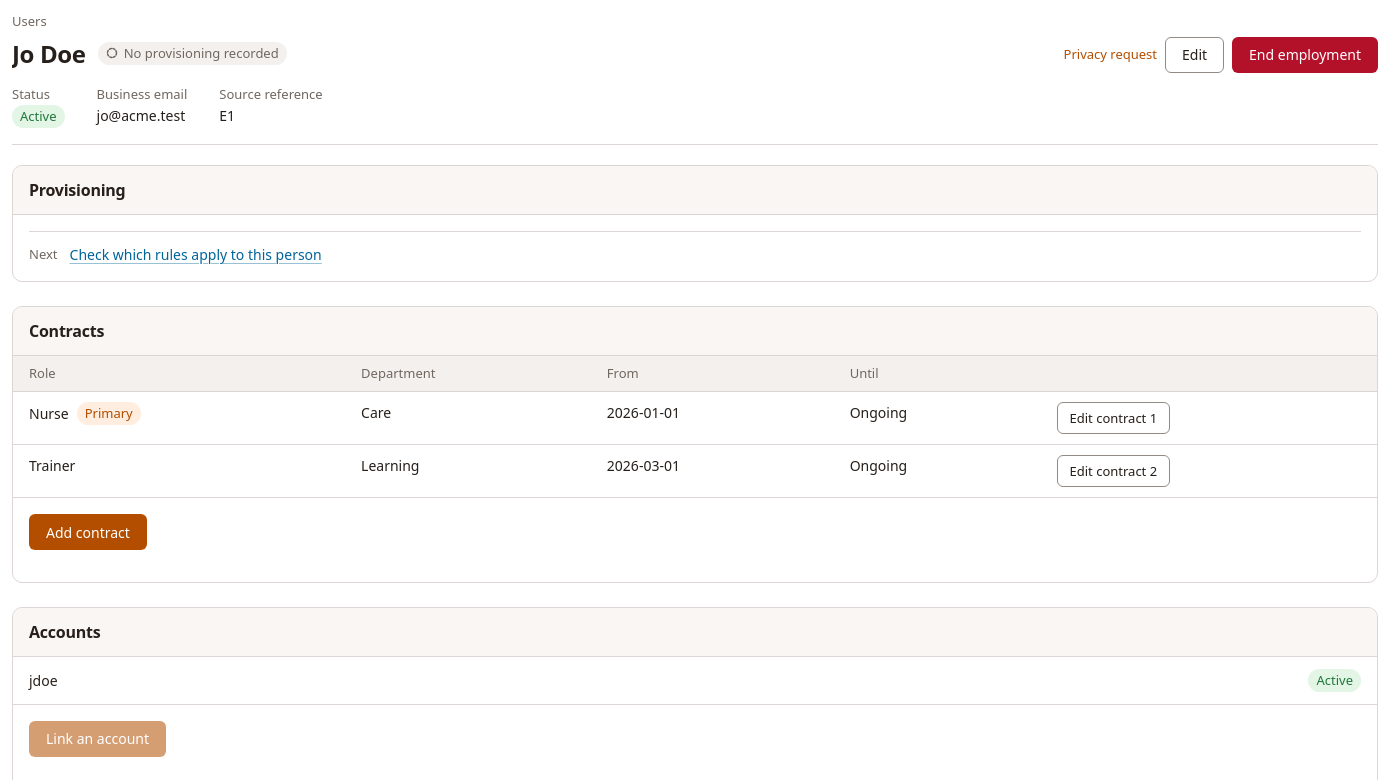
Test case: PersonDetailPage › previews linked sign-ins and target work before ending employment
What coordinates should you click on to do the following:
click the button "End employment"
I would click on:
 (1305, 55)
Its box is [1232,37,1378,73].
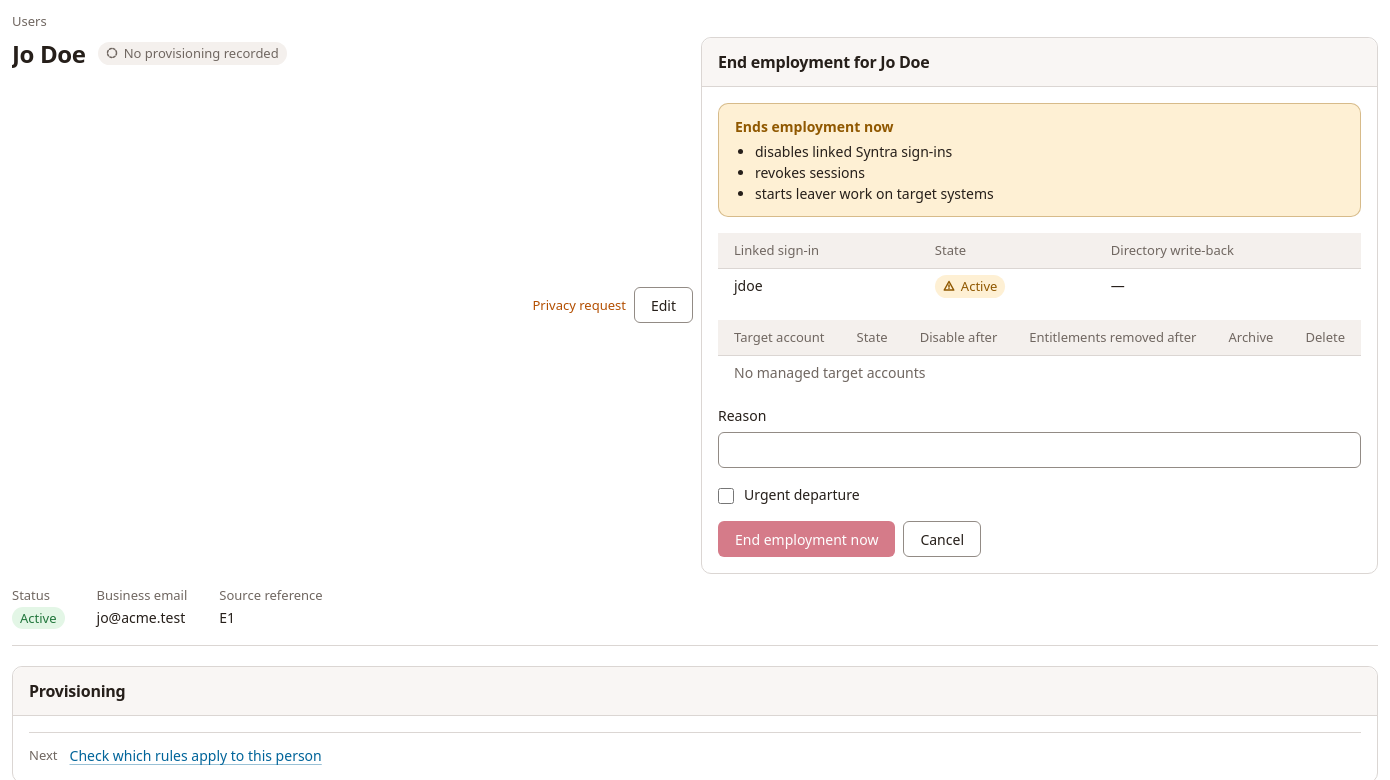
Expected: the list item "disables linked Syntra sign-ins" is shown, [755,142,952,161]
Expected: the column heading "jdoe" is shown, [718,269,919,304]
